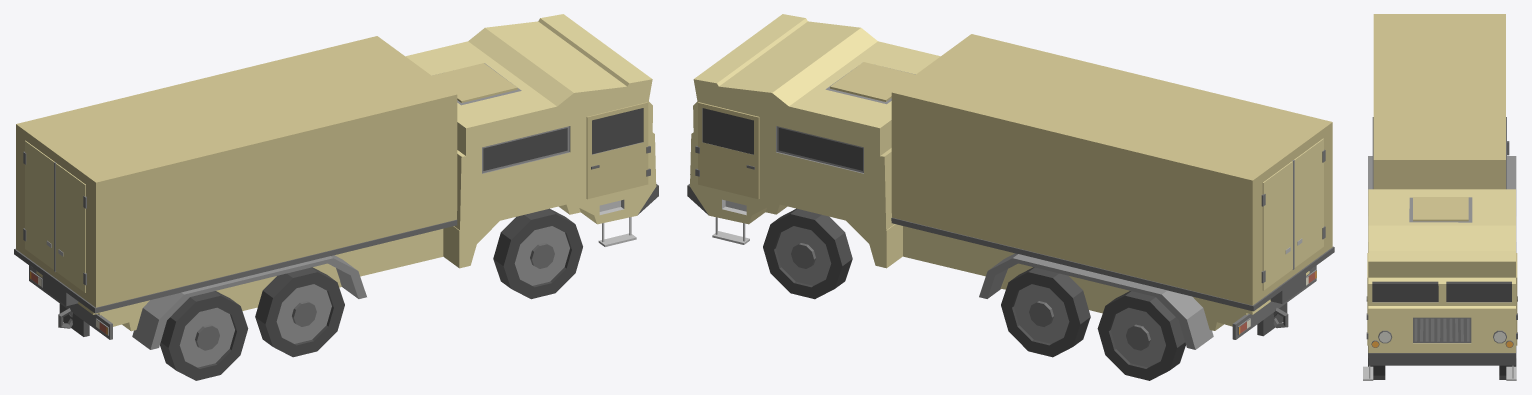
Rendered from kar15.fbx.
3 views of the same model, side by side, from view 1: azimuth 30°, elevation 25°; view 2: azimuth 150°, elevation 25°; view 3: azimuth 270°, elevation 25° (orthographic). The views are drawn at different scales.
Parts seen in each view (by area): view 1: Boole_6, Cylinder_4, Cylinder_5, Cylinder_6; view 2: Boole_6, Cylinder_1, Cylinder_2, Cylinder_3; view 3: Boole_6, Cylinder_4, Cylinder_1.
Boxes of the visible parts, x1,y1,x2,y2 form: Boole_6: [14, 14, 658, 349]; Cylinder_4: [493, 208, 582, 299]; Cylinder_5: [255, 267, 344, 357]; Cylinder_6: [160, 291, 248, 380]; Boole_6: [687, 14, 1334, 349]; Cylinder_1: [763, 208, 852, 299]; Cylinder_2: [1001, 267, 1090, 357]; Cylinder_3: [1097, 291, 1185, 380]; Boole_6: [1363, 14, 1517, 380]; Cylinder_4: [1368, 346, 1385, 379]; Cylinder_1: [1499, 346, 1516, 379].
Size of the model in its own units: 800 by 299 by 231.
